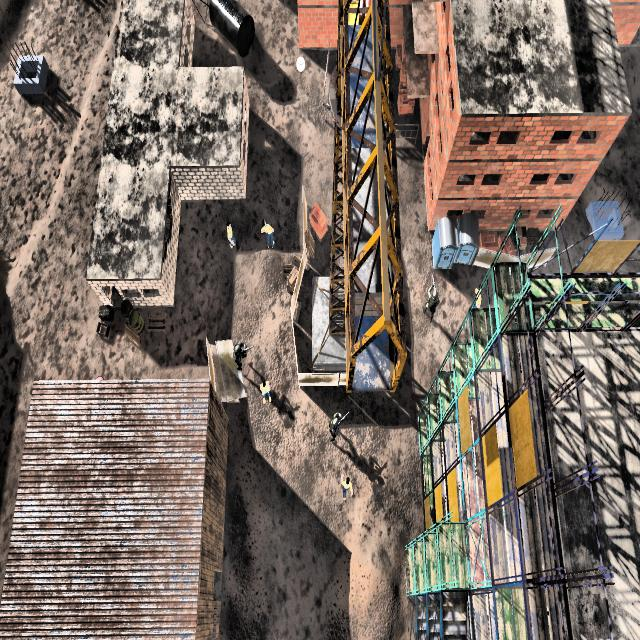bad: (420, 273, 441, 323), (326, 407, 350, 445), (231, 338, 250, 371)
good: (256, 210, 282, 256), (335, 462, 356, 509), (257, 370, 274, 409), (223, 211, 238, 254), (471, 281, 488, 313)
